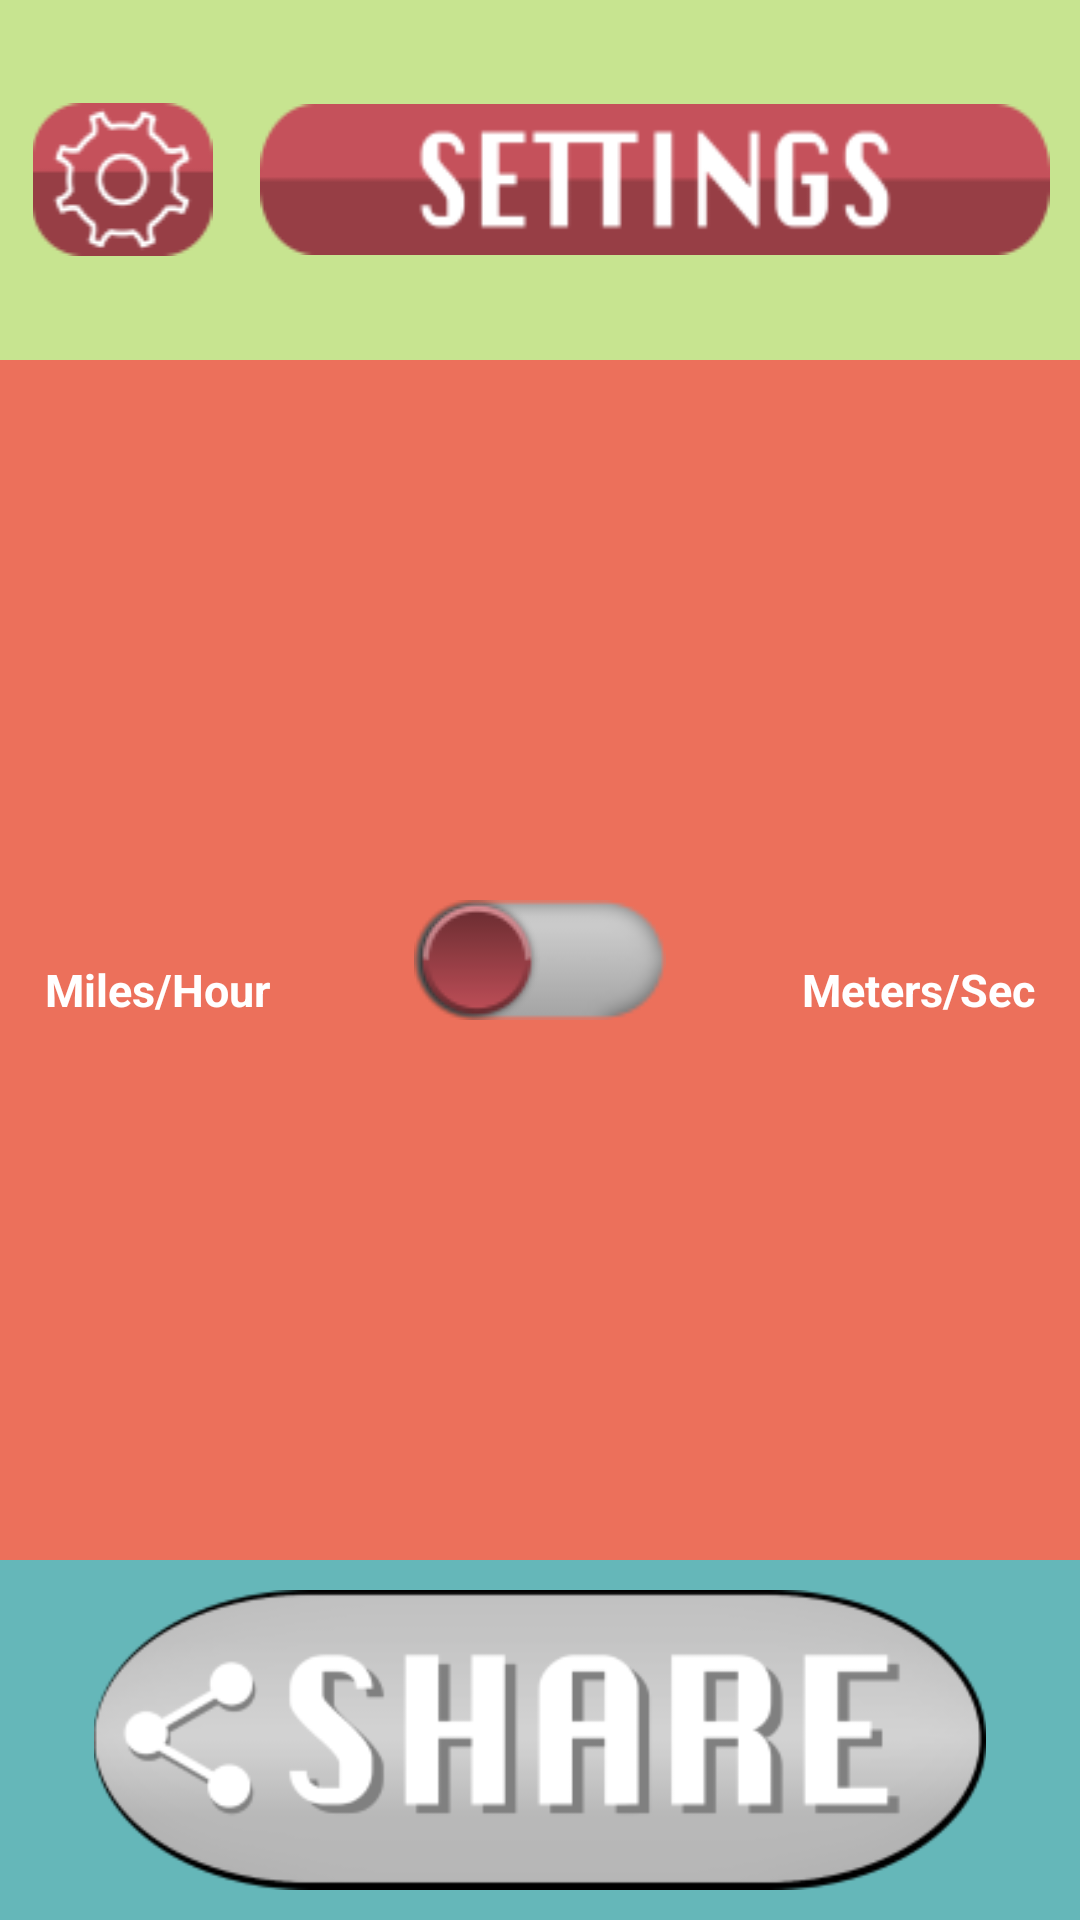

Named icons in this screenshot (1080w x 1920h) and their centers, [x,y]:
settings top left: [123,179]
